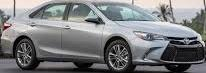Cars: (4, 3, 205, 73)
